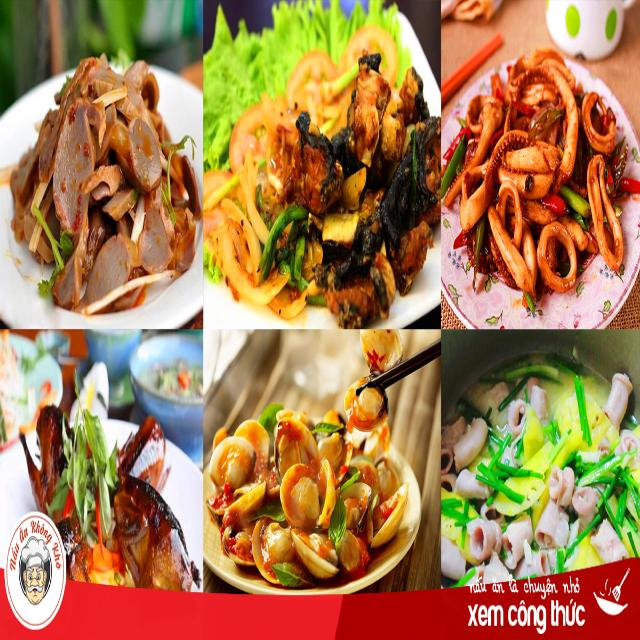chim cut nuong: (18, 379, 185, 514)
ech chien mam: (212, 44, 439, 328)
long hap: (458, 380, 638, 582)
me ga: (11, 48, 192, 307)
muc xao: (450, 42, 634, 329)
ngheu xot thai: (212, 366, 411, 578)
